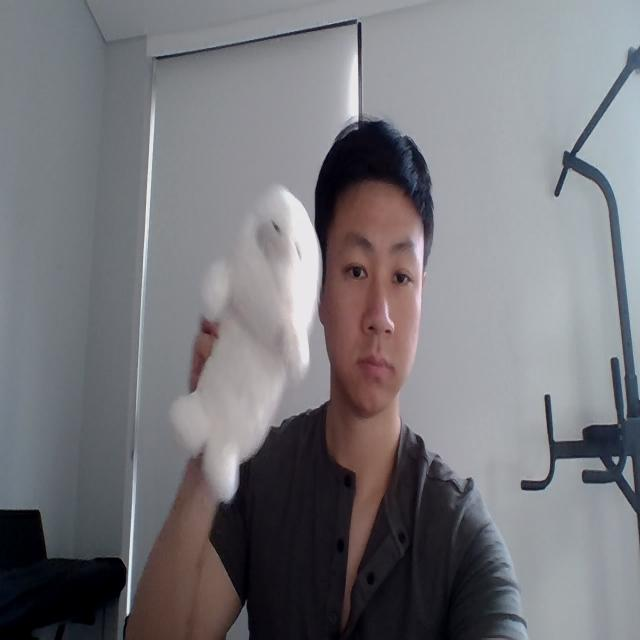seal_bb: (171, 185, 324, 504)
